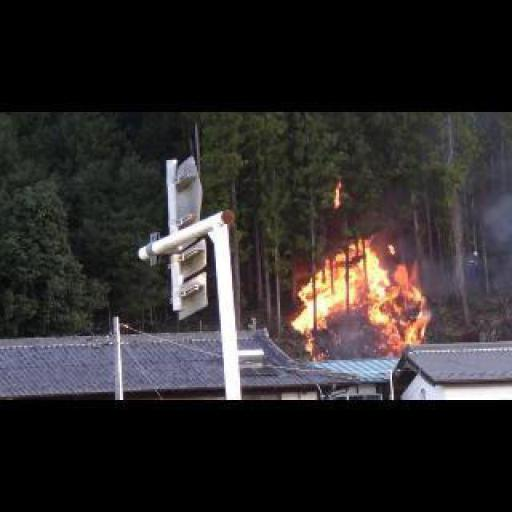smoke: (290, 234, 432, 358), (476, 166, 510, 298), (334, 179, 342, 208)
